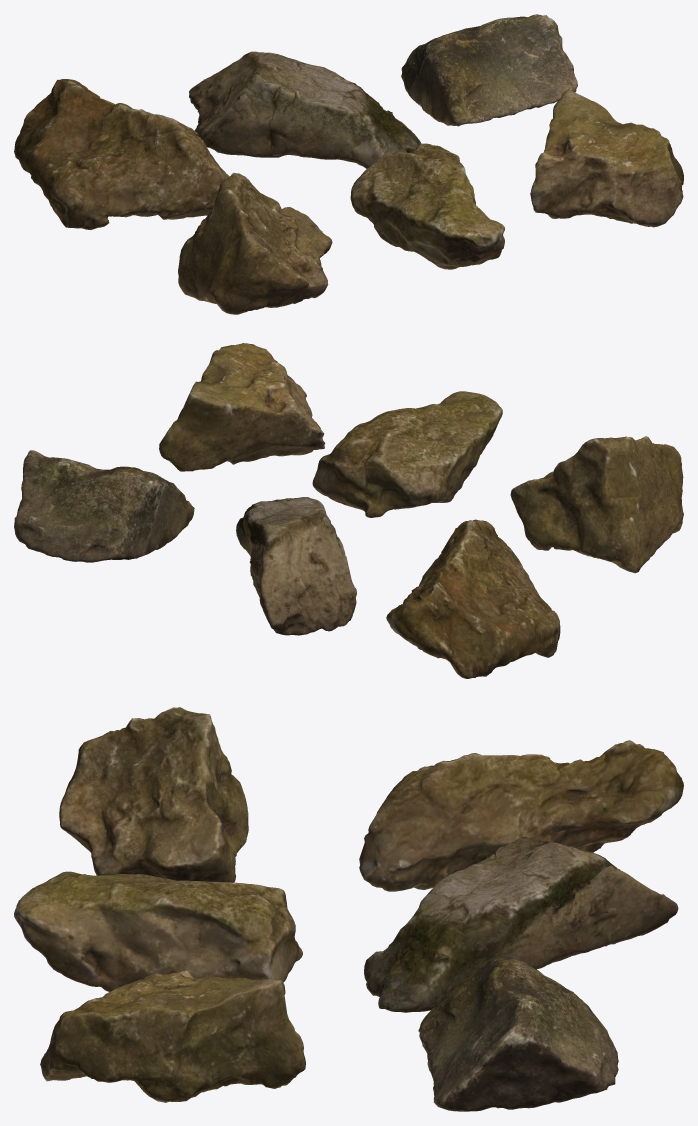
The model's file is rock_moss_set_01.glb.
The picture shows the model from 3 angles, top to bottom: view 1: azimuth 30°, elevation 25°; view 2: azimuth 150°, elevation 25°; view 3: azimuth 270°, elevation 25°; orthographic projection. The views are drawn at different scales.
Parts seen in each view (by area): view 1: rock_moss_set_01_rock01, rock_moss_set_01_rock02, rock_moss_set_01_rock06, rock_moss_set_01_rock04, rock_moss_set_01_rock03, rock_moss_set_01_rock05; view 2: rock_moss_set_01_rock04, rock_moss_set_01_rock01, rock_moss_set_01_rock05, rock_moss_set_01_rock03, rock_moss_set_01_rock06, rock_moss_set_01_rock02; view 3: rock_moss_set_01_rock01, rock_moss_set_01_rock02, rock_moss_set_01_rock05, rock_moss_set_01_rock04, rock_moss_set_01_rock06, rock_moss_set_01_rock03.
Part boxes in pixels (box(x1,y1,x2,y2)): rock_moss_set_01_rock01: box(14, 79, 229, 229); rock_moss_set_01_rock02: box(189, 51, 421, 168); rock_moss_set_01_rock06: box(530, 89, 683, 227); rock_moss_set_01_rock04: box(178, 173, 332, 314); rock_moss_set_01_rock03: box(401, 14, 577, 126); rock_moss_set_01_rock05: box(350, 143, 504, 269); rock_moss_set_01_rock04: box(510, 436, 683, 573); rock_moss_set_01_rock01: box(386, 519, 560, 678); rock_moss_set_01_rock05: box(312, 391, 502, 517); rock_moss_set_01_rock03: box(14, 450, 194, 562); rock_moss_set_01_rock06: box(159, 343, 325, 471); rock_moss_set_01_rock02: box(236, 497, 356, 635); rock_moss_set_01_rock01: box(359, 740, 683, 891); rock_moss_set_01_rock02: box(364, 836, 678, 1012); rock_moss_set_01_rock05: box(14, 871, 302, 991); rock_moss_set_01_rock04: box(59, 707, 248, 882); rock_moss_set_01_rock06: box(40, 970, 305, 1102); rock_moss_set_01_rock03: box(418, 956, 618, 1111).
Size of the model in its own units: 8 by 1.77 by 6.95.
1 material, 1 textured.
